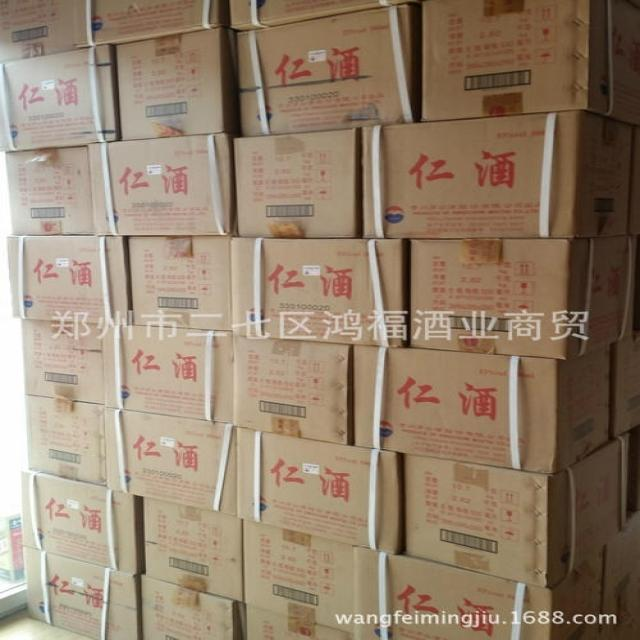box: (356, 110, 635, 238), (404, 433, 630, 588), (352, 344, 613, 475), (421, 0, 640, 124), (410, 237, 634, 358), (353, 544, 605, 640), (236, 0, 412, 136), (236, 428, 402, 555), (232, 234, 412, 349), (84, 131, 232, 236), (108, 407, 237, 518), (114, 26, 239, 140), (228, 128, 357, 236), (232, 336, 356, 446), (0, 43, 119, 154), (20, 469, 142, 575), (102, 325, 233, 422), (243, 520, 353, 632), (9, 235, 131, 326), (26, 546, 143, 640), (143, 497, 243, 604), (127, 234, 233, 332), (3, 143, 95, 236), (22, 395, 108, 486), (22, 320, 105, 407), (77, 0, 221, 48), (142, 574, 243, 640), (229, 0, 413, 31), (600, 509, 640, 640), (0, 0, 77, 62), (246, 603, 356, 640), (611, 337, 640, 442)
